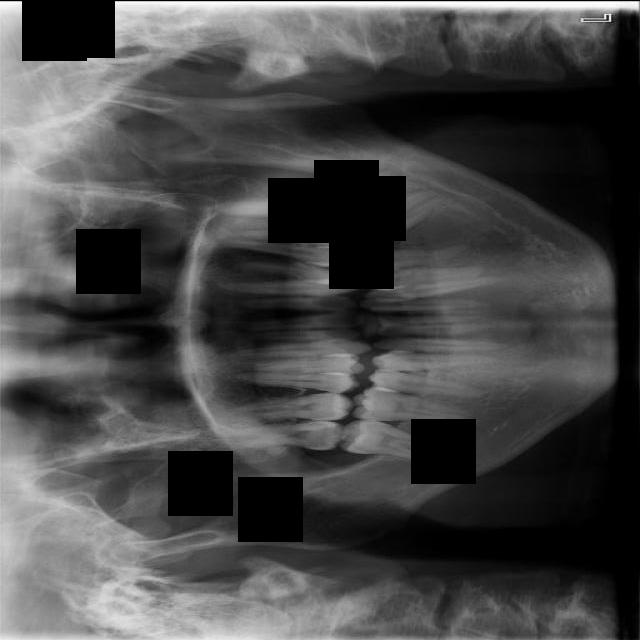52: (316, 170, 378, 217), (319, 215, 360, 248), (302, 424, 350, 451)
73: (578, 14, 610, 22)
BioHorizons Implant: (204, 187, 350, 220)
Biomet 3i Implant: (318, 163, 408, 221)
Blue Sky Bio Implant: (339, 182, 455, 254)
Caries: (224, 420, 349, 449)
Implant: (340, 415, 444, 462)
